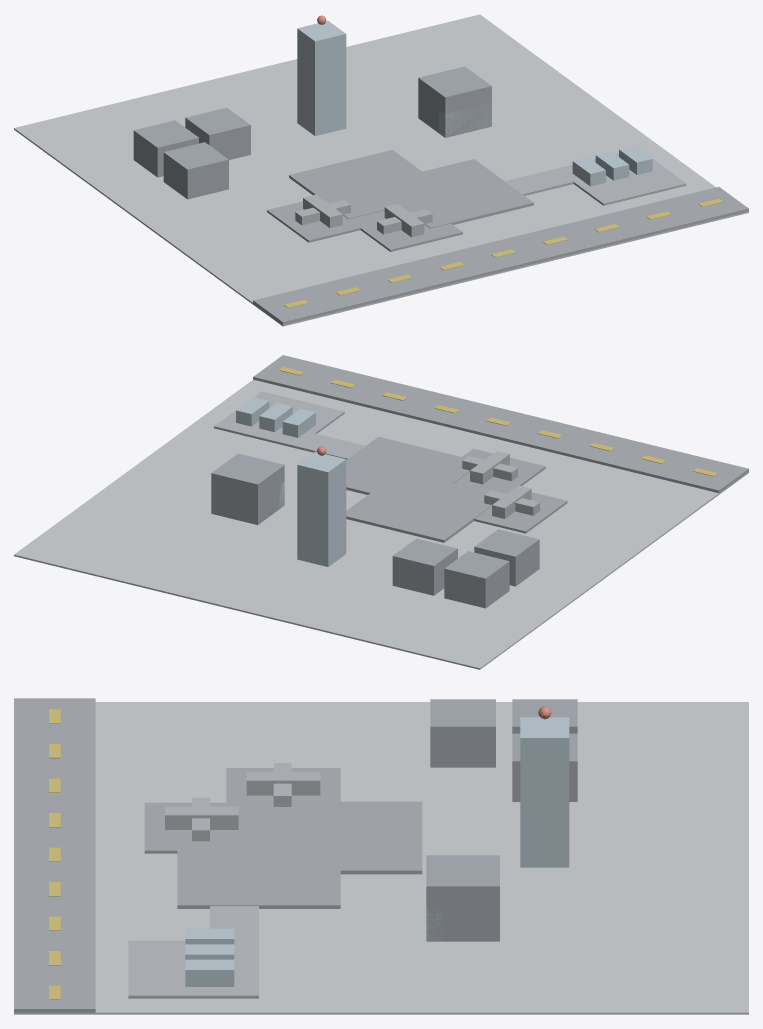
The model's file is stage_11.glb.
The picture shows the model from 3 angles, top to bottom: view 1: azimuth 30°, elevation 25°; view 2: azimuth 150°, elevation 25°; view 3: azimuth 270°, elevation 25°; orthographic projection. The views are drawn at different scales.
Visible parts, largest first — view 1: geometry_0; view 2: geometry_0; view 3: geometry_0.
Part boxes in pixels (left/top/right/bottom): geometry_0: left=14, top=14, right=748, bottom=326; geometry_0: left=14, top=355, right=748, bottom=669; geometry_0: left=14, top=698, right=748, bottom=1014.
Size of the model in its own units: 9 by 2.06 by 9.
